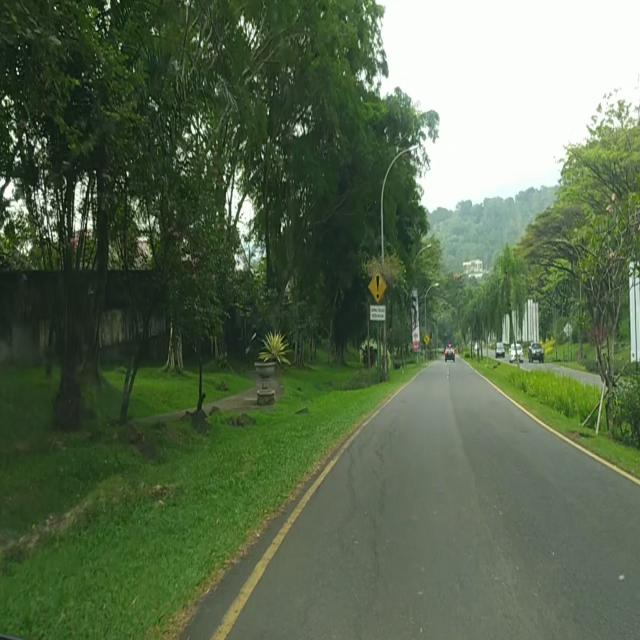Drain Hole: (337, 412, 405, 559)
